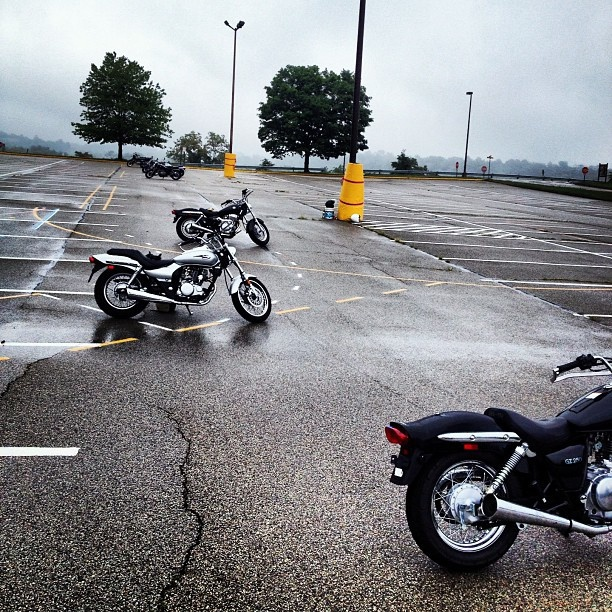non-vehicle: (385, 356, 612, 570), (89, 235, 271, 324), (171, 187, 270, 244), (144, 161, 182, 180), (126, 152, 153, 167)
